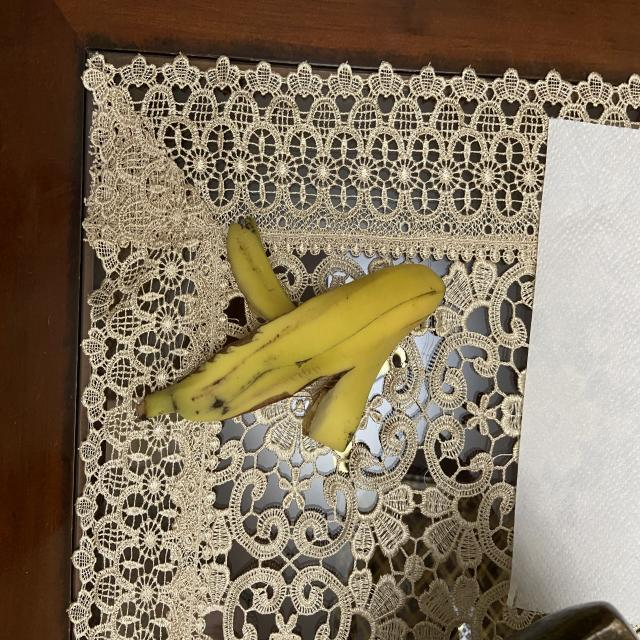banana-peel: (136, 216, 445, 453)
